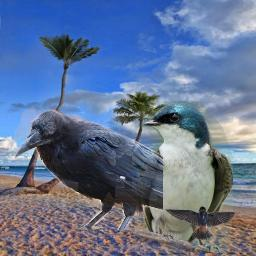Crow: (14, 107, 163, 231)
Swallow: (135, 101, 233, 253), (163, 205, 236, 240)
